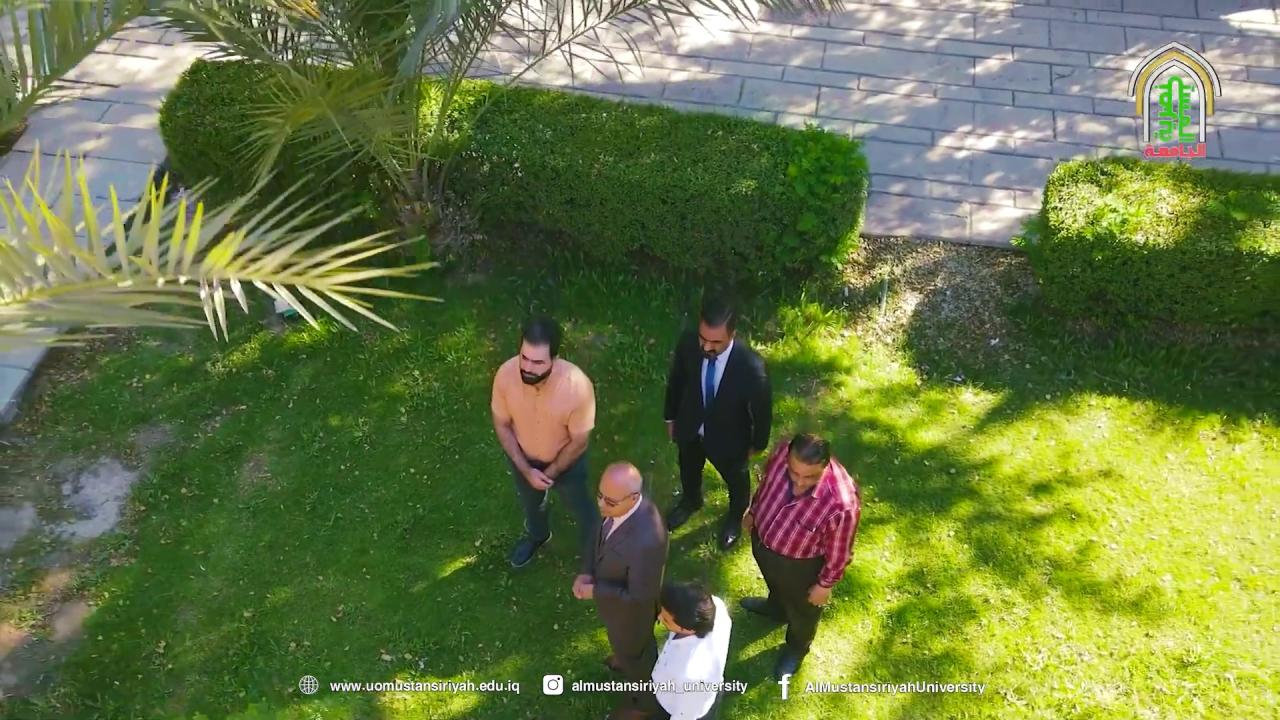person: (739, 432, 861, 683), (662, 294, 772, 550), (489, 315, 598, 569), (572, 460, 670, 717), (651, 580, 732, 719)
tree: (0, 0, 852, 347), (1032, 157, 1280, 325)
